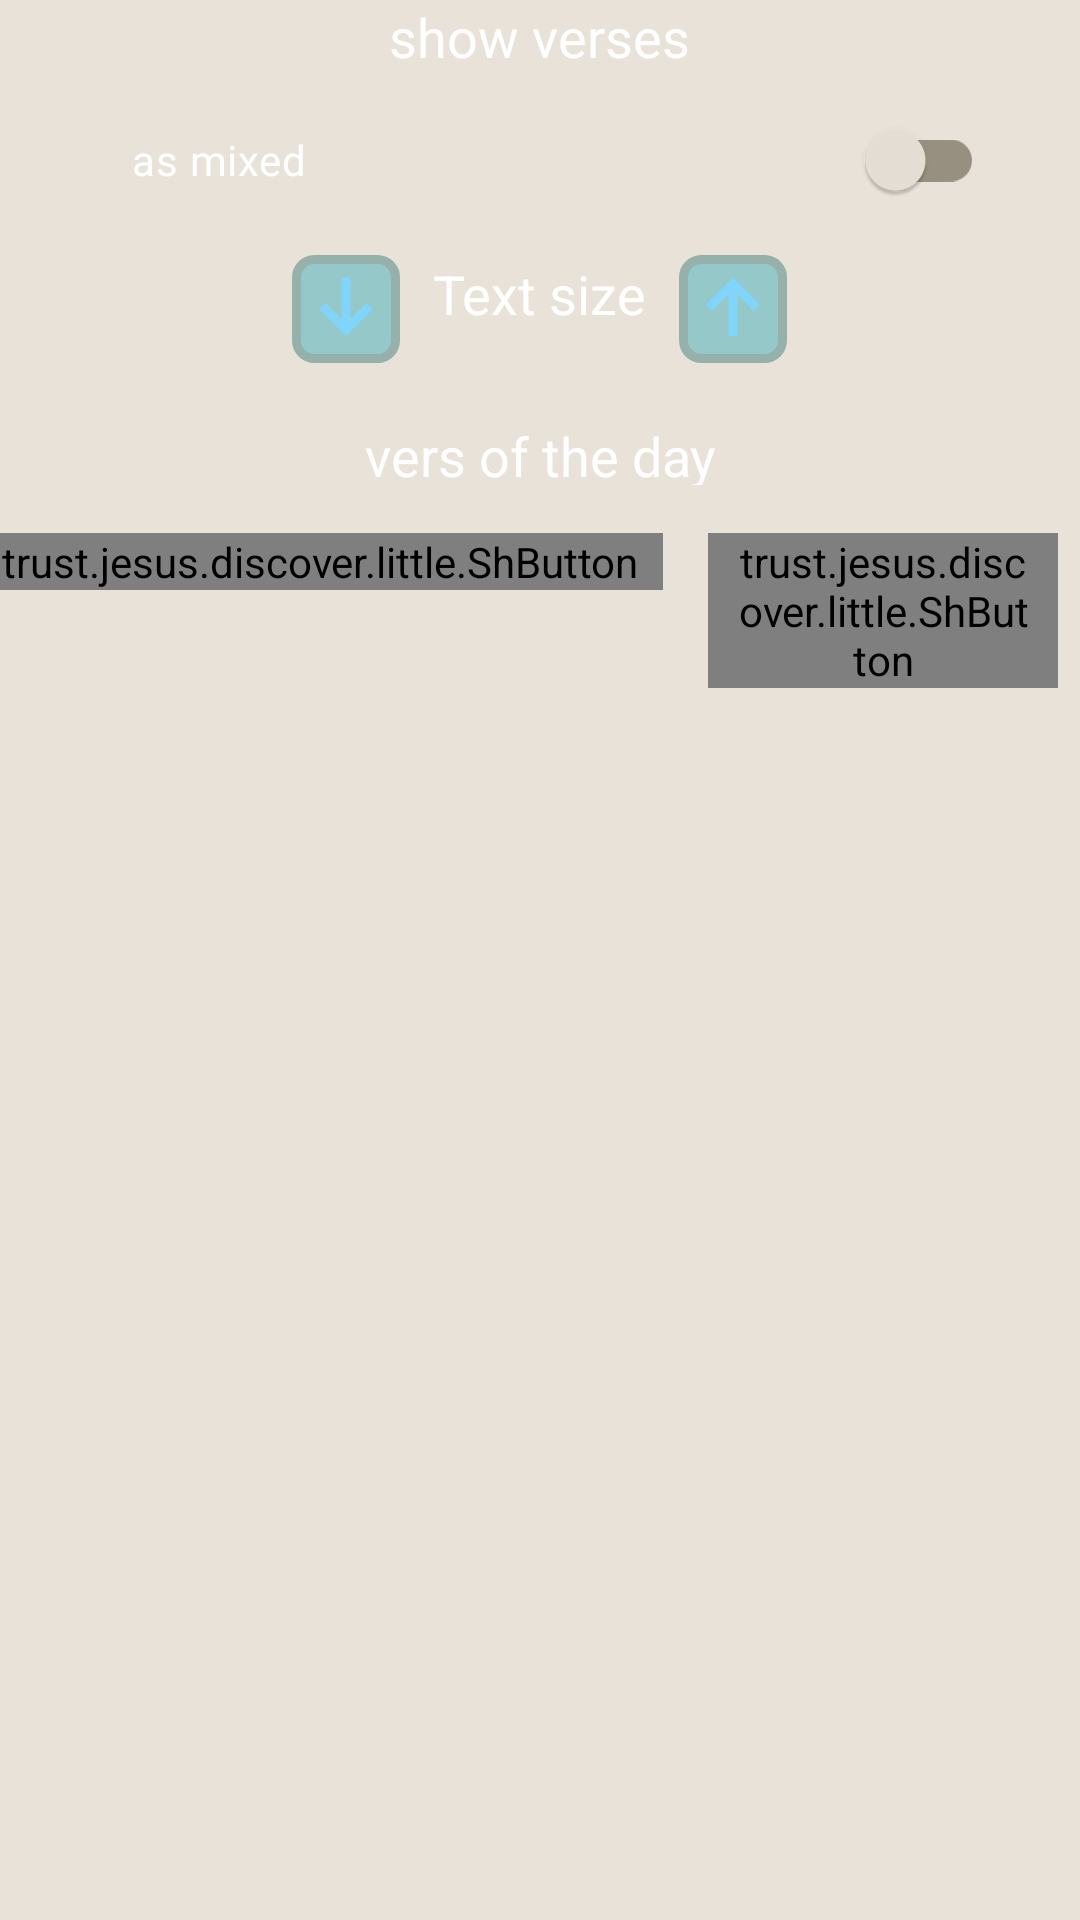

Screen size 1080x1920. Icon name, then its box in pixels as (x1,y1,x2,y2):
arrow downward: (292,255,400,363)
arrow upward: (679,255,787,363)
